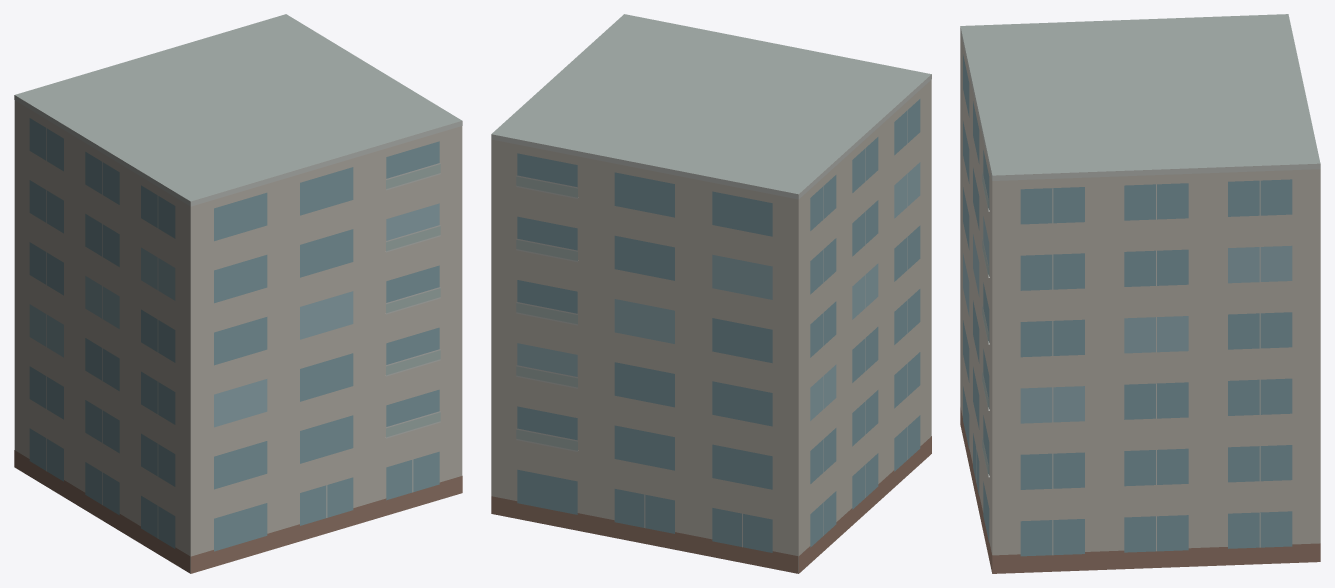
File: survey-upis-32942218.glb
The picture shows the model from 3 angles, left to right: view 1: azimuth 30°, elevation 25°; view 2: azimuth 150°, elevation 25°; view 3: azimuth 270°, elevation 25°; orthographic projection. The views are drawn at different scales.
Visible parts, largest first — view 1: survey-upis-32942218.tmp; view 2: survey-upis-32942218.tmp; view 3: survey-upis-32942218.tmp.
Part boxes in pixels (<box>): survey-upis-32942218.tmp: <box>14,14,462,573</box>; survey-upis-32942218.tmp: <box>491,14,931,573</box>; survey-upis-32942218.tmp: <box>960,14,1320,573</box>.
Bounding box in the file's own units: 15.45 × 17.75 × 14.56.
